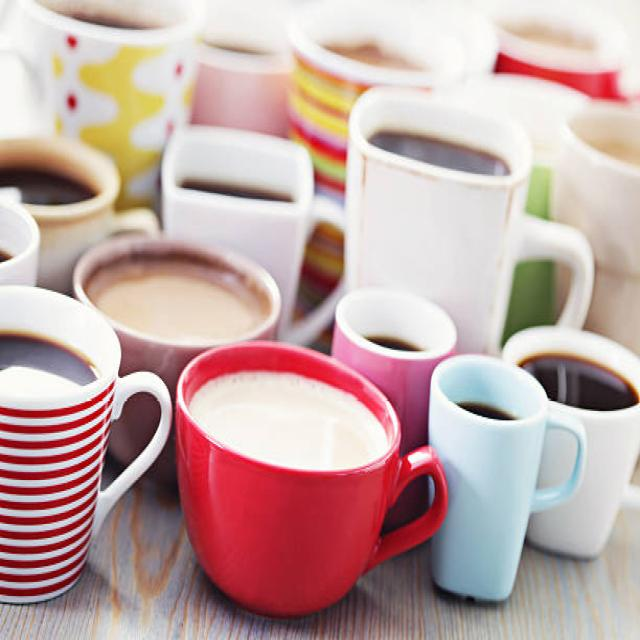Red_cup: (176, 342, 447, 616), (495, 4, 636, 101)
